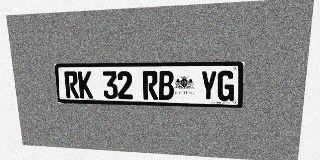2: (117, 71, 133, 99)
3: (102, 71, 118, 99)
B: (158, 71, 174, 100)
G: (217, 71, 235, 101)
K: (78, 71, 93, 98)
R: (142, 71, 158, 100), (64, 71, 79, 98)
Y: (200, 71, 217, 101)
